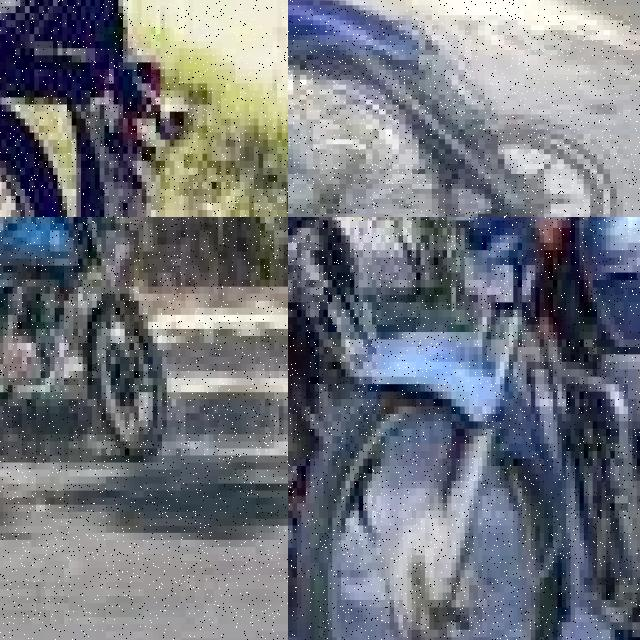bike: (297, 217, 640, 640), (288, 0, 550, 217), (0, 217, 171, 490), (288, 217, 394, 640), (0, 0, 202, 217)
